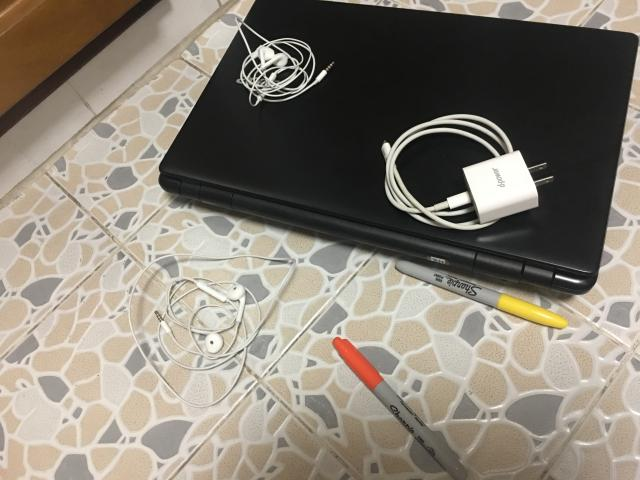Pen: (331, 338, 466, 479), (396, 260, 568, 329)
wire: (129, 255, 294, 409), (381, 114, 554, 230), (236, 21, 334, 106)
